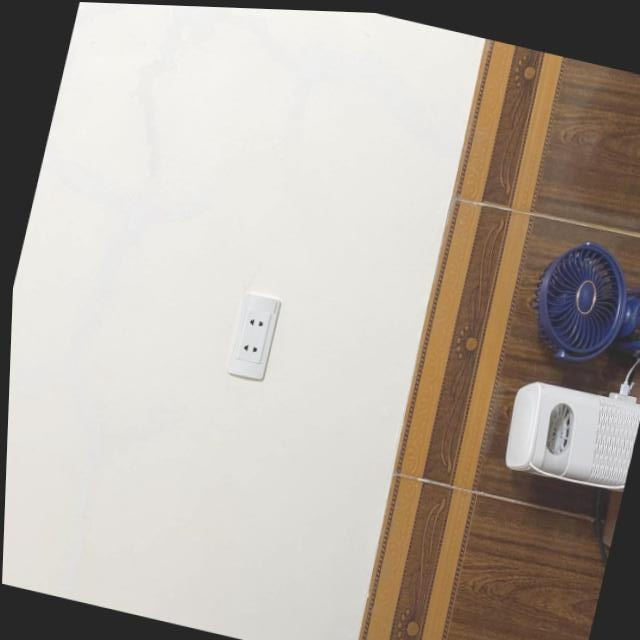outlet: (224, 291, 283, 384)
